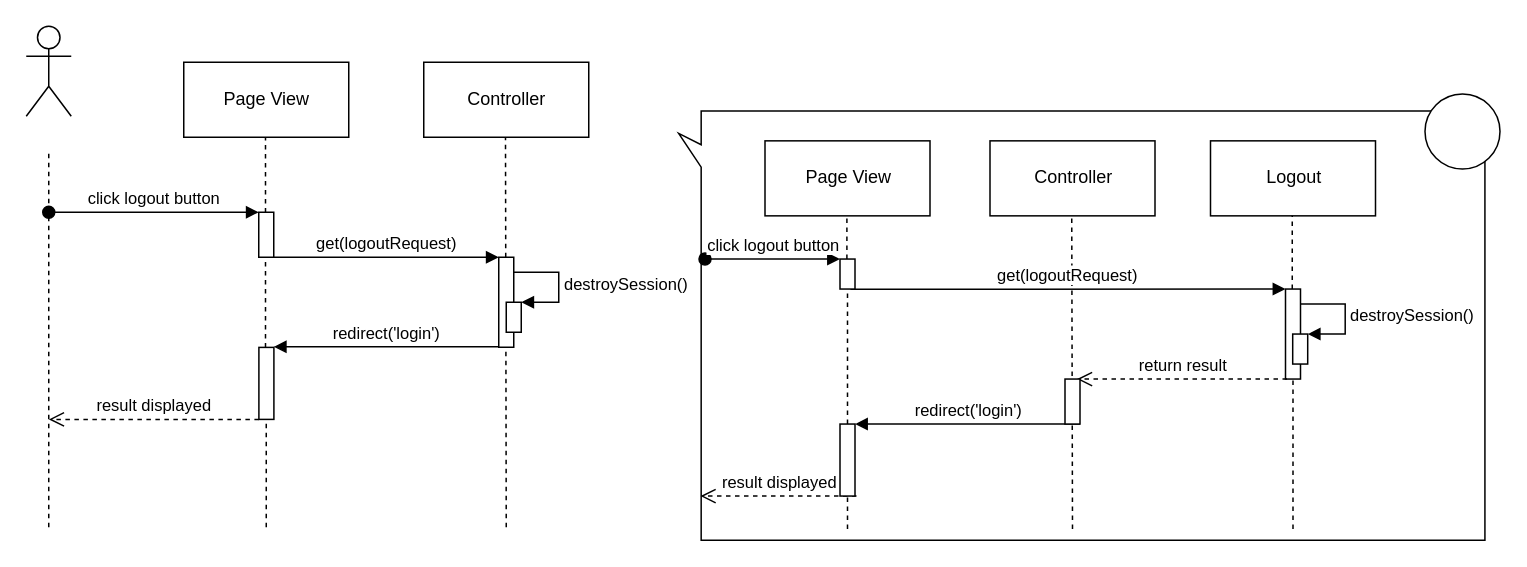
The diagram is 1527 pixels wide and 567 high, and some of its shapes have lost their labels. The box of each missing label's shape, as (x1, y1, x2, y2) in pixels:
User: (25, 25, 71, 116)
V1: (1424, 93, 1500, 169)
